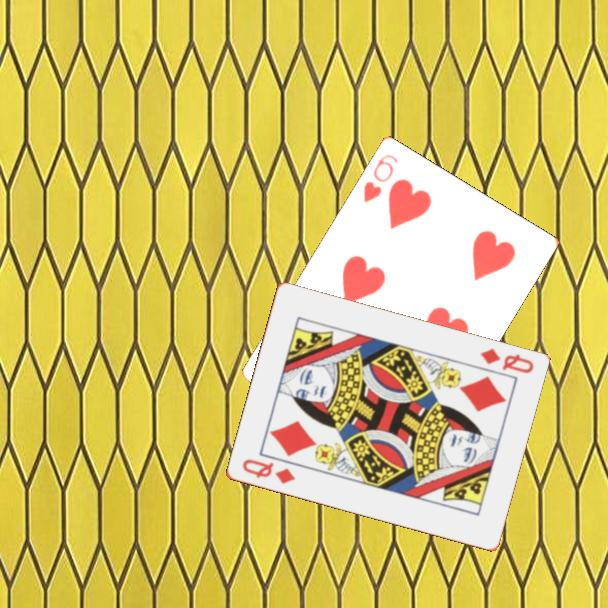d12: (238, 455, 298, 487), (476, 345, 536, 377)
h06: (360, 150, 401, 206)
